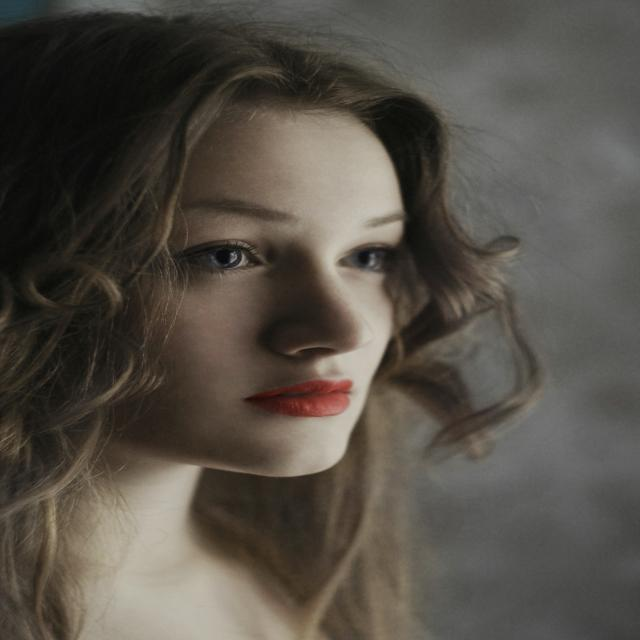adult: (0, 31, 475, 640)
